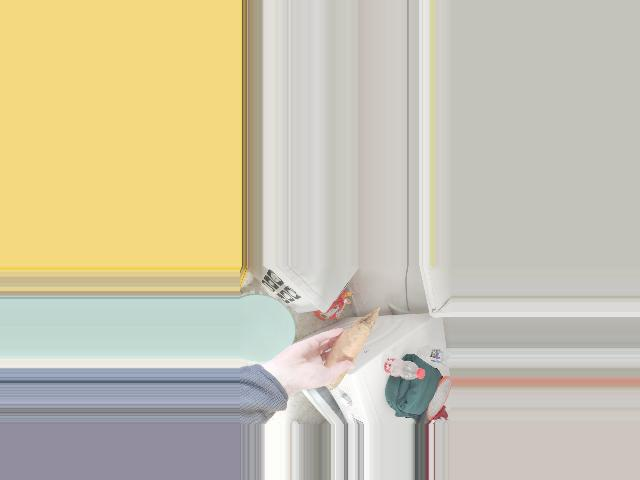sweet_potato: (325, 329, 369, 375)
